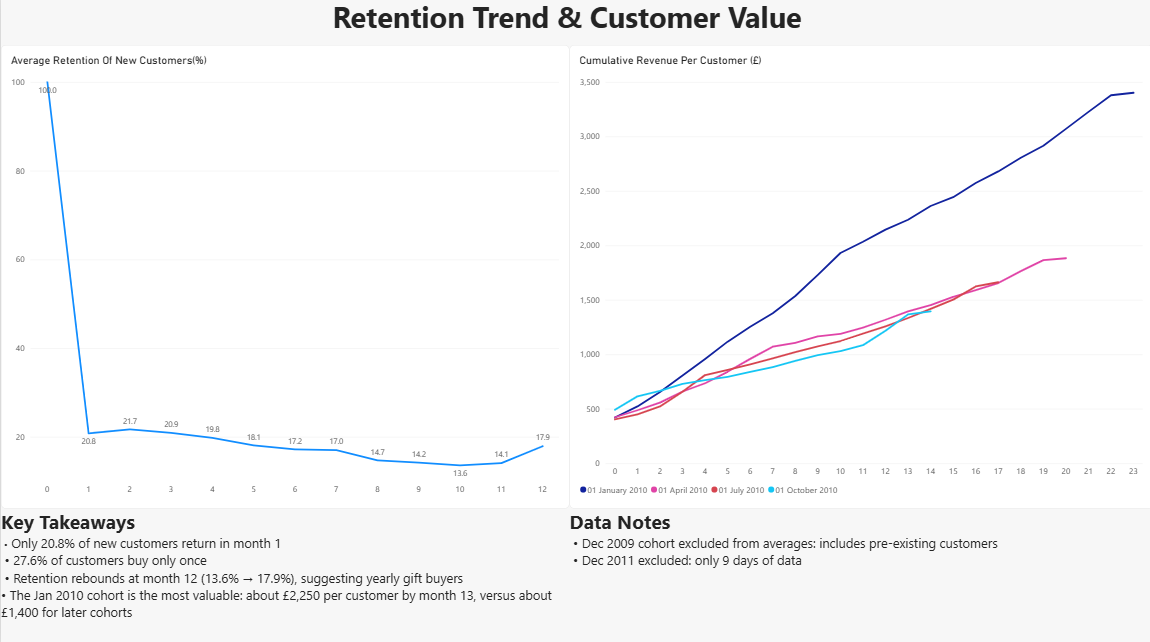

The dashboard page shown, as its layout file describes it:
{"tool":"powerbi","page":{"name":"Trends & CLV","canvas":[1920,1080],"ordinal":1},"visuals":[{"type":"lineChart","title":"Average Retention Of New Customers(%)","fields":{"Category":["avg_retention.month_index"],"Y":["Sum(avg_retention.avg_retention_pct)"]},"box":[0,80,947.5,772.5],"z":0},{"type":"lineChart","title":"Cumulative Revenue Per Customer (£)","fields":{"Category":["cohort_clv.month_index"],"Series":["cohort_clv.cohort_month"],"Y":["Sum(cohort_clv.cum_revenue_per_customer)"]},"box":[947.5,80,972.5,772.5],"z":1000},{"type":"textbox","box":[0,852.5,947.5,227.5],"z":1001},{"type":"textbox","box":[947.5,852.5,972.5,227.5],"z":1002},{"type":"textbox","box":[100,100,300,300],"z":1003},{"type":"textbox","box":[100,0,1700,80],"z":1004}]}

Visuals, with their boxes in screenshot pixels (x1, y1, x2, y2), scaled from the page's 1920x1080 canvas onto the 1150x642 screenshot:
"Average Retention Of New Customers(%)" lineChart: (x1=0, y1=48, x2=568, y2=507)
"Cumulative Revenue Per Customer (£)" lineChart: (x1=568, y1=48, x2=1149, y2=507)
textbox: (x1=0, y1=507, x2=568, y2=641)
textbox: (x1=568, y1=507, x2=1149, y2=641)
textbox: (x1=60, y1=59, x2=240, y2=238)
textbox: (x1=60, y1=0, x2=1078, y2=48)
